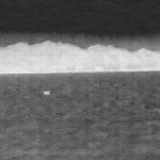Target: (42, 90, 51, 96)
